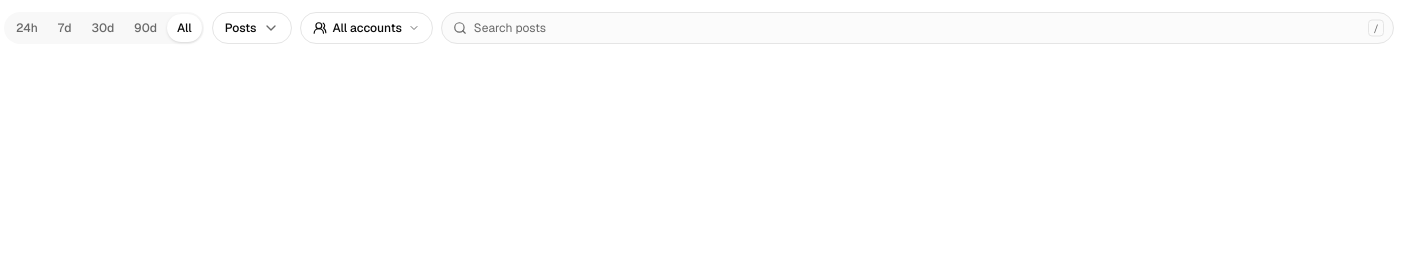
Test: opens the post-type menu with arrows, navigates choices and returns focus after selection or Escape
The width and height of the screenshot is (1411, 280).
Press ArrowDown in the button "Posts", box [212,12,292,44]
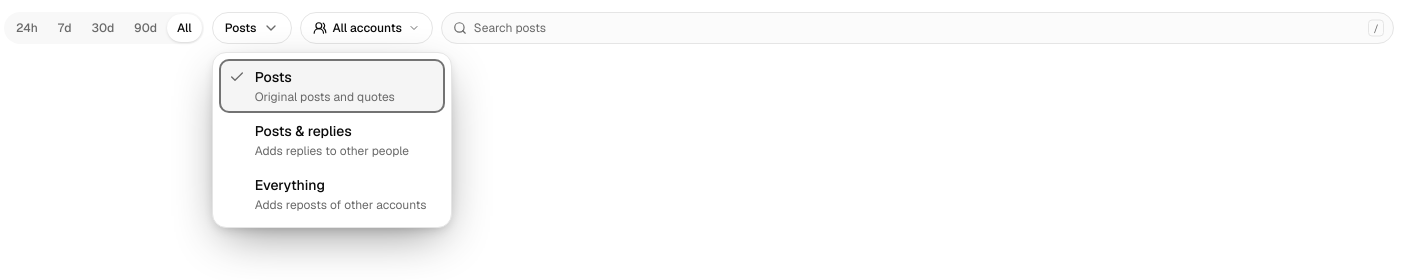
Press ArrowDown in the menu item "Posts Original posts and quotes", box [219,59,445,113]
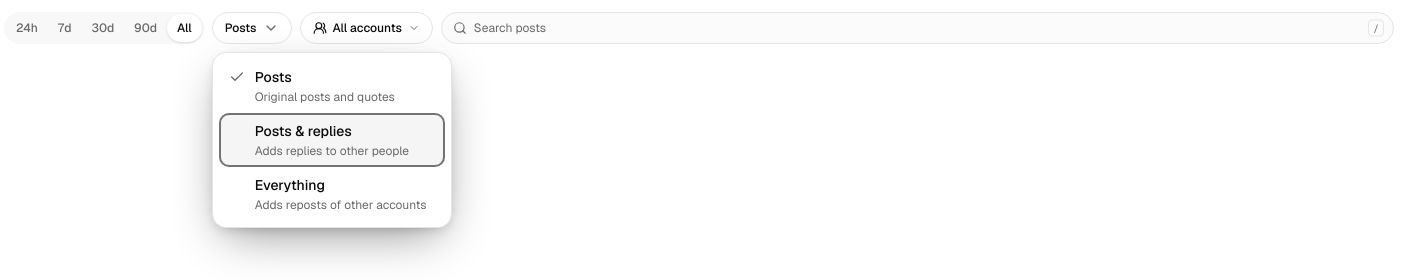
Press End in the menu item "Posts & replies Adds replies to other people", box [219,113,445,167]
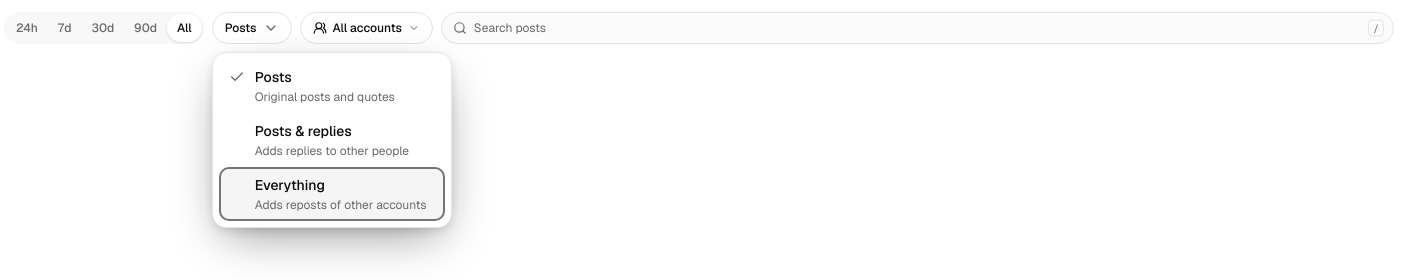
Click the menu item "Everything Adds reposts of other accounts" at (332, 194), box [219,167,445,221]
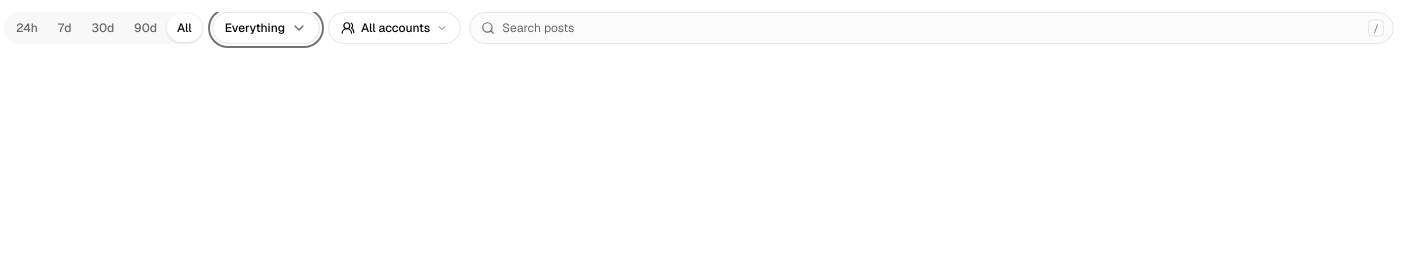
Click the button "Everything" at (266, 28), box [212,12,320,44]
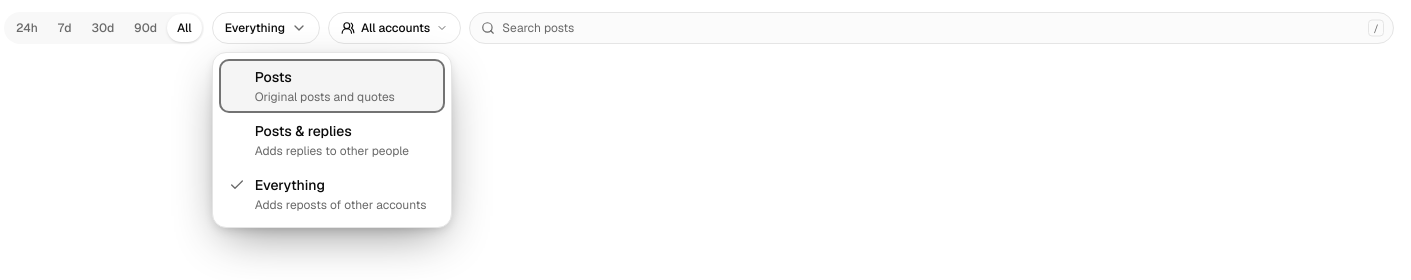
Check: the menu item "Everything Adds reposts of other accounts" is checked, box [219,167,445,221]
Press Escape in the menu item "Posts Original posts and quotes", box [219,59,445,113]
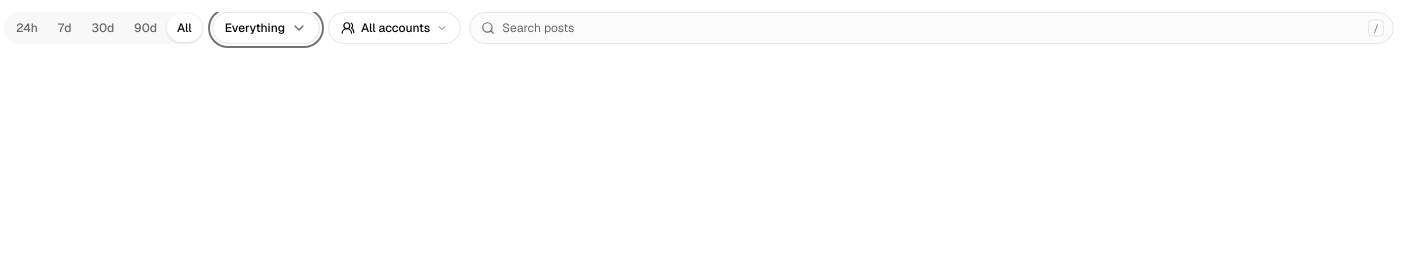
Check: the menu is gone
